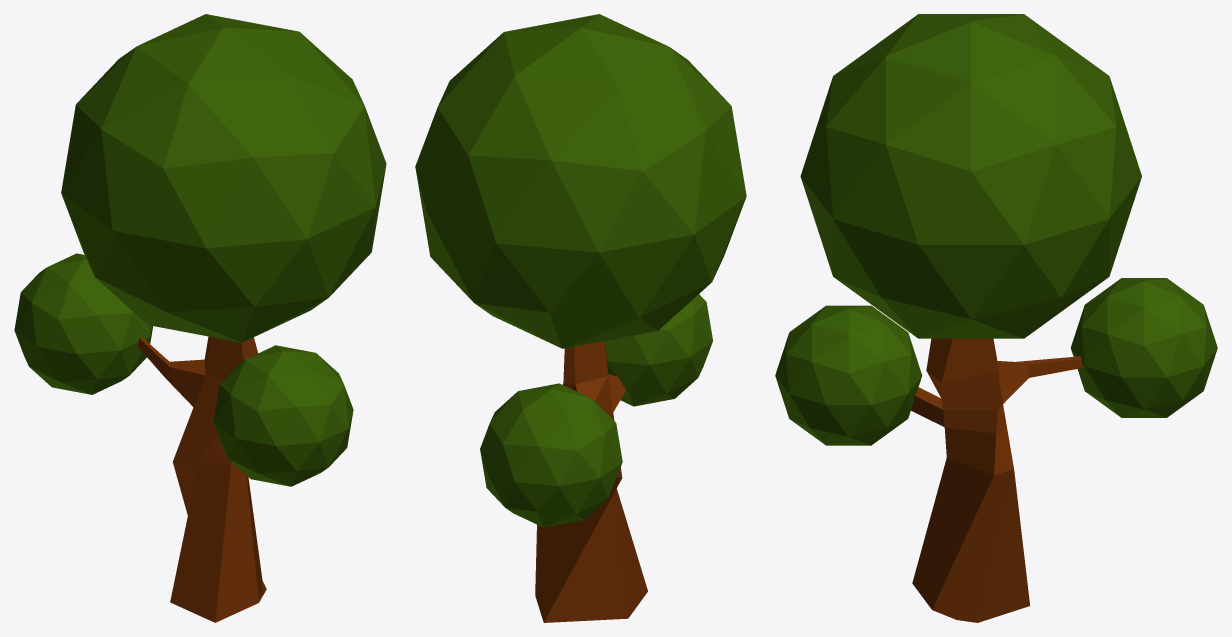
The model's file is Tree2.fbx.
The picture shows the model from 3 angles, left to right: view 1: azimuth 30°, elevation 25°; view 2: azimuth 150°, elevation 25°; view 3: azimuth 270°, elevation 25°; orthographic projection. The views are drawn at different scales.
Parts seen in each view (by area): view 1: Икосфера, Куб, Икосфера.001, Икосфера.002; view 2: Икосфера, Икосфера.002, Куб, Икосфера.001; view 3: Икосфера, Куб, Икосфера.001, Икосфера.002.
Boxes of the visible parts, x1,y1,x2,y2 form: Икосфера: (61,14,386,342); Куб: (137,336,266,622); Икосфера.001: (213,345,353,486); Икосфера.002: (14,253,153,394); Икосфера: (415,14,746,348); Икосфера.002: (480,383,622,527); Куб: (535,341,647,622); Икосфера.001: (605,294,712,406); Икосфера: (800,14,1141,338); Куб: (911,338,1082,622); Икосфера.001: (775,305,922,445); Икосфера.002: (1071,278,1217,417).
Bounding box in the file's own units: 455 × 897 × 620.
